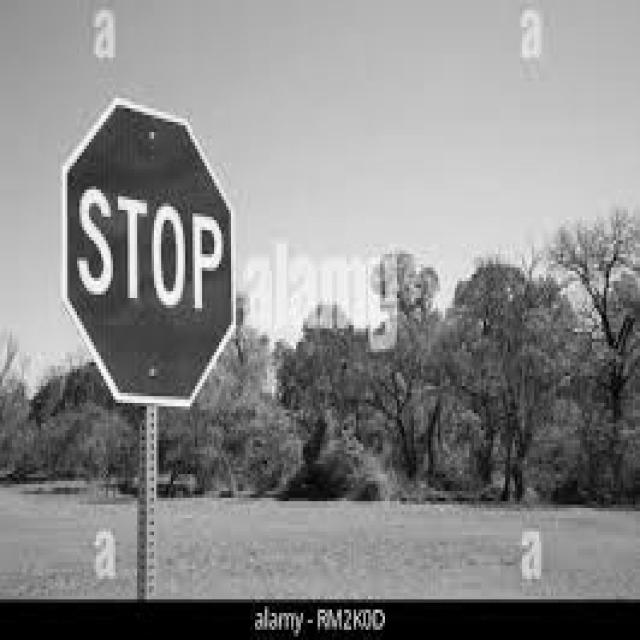stop sign: (62, 99, 234, 409)
